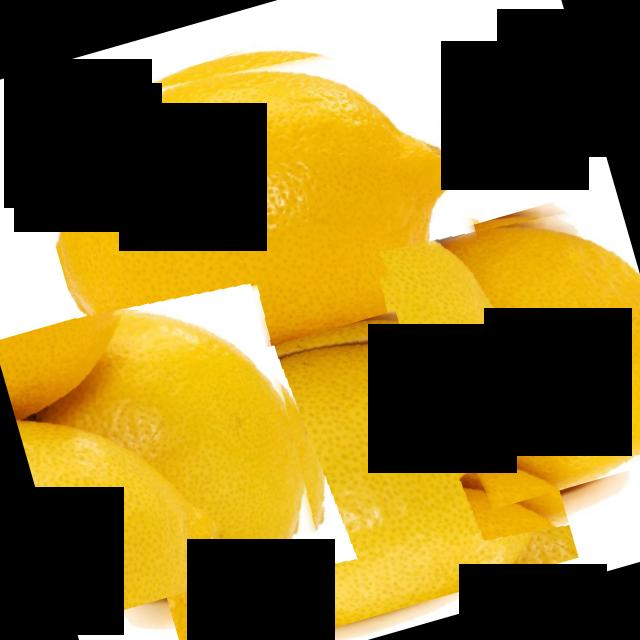lemon: (18, 1, 496, 395), (105, 273, 578, 640), (0, 266, 333, 623), (378, 183, 640, 519)
